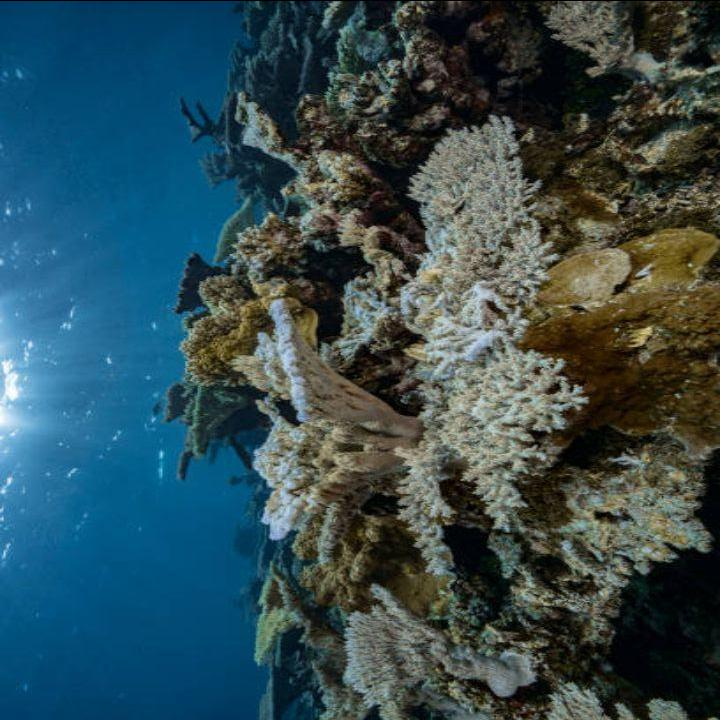Bleached disease: (237, 98, 633, 694)
